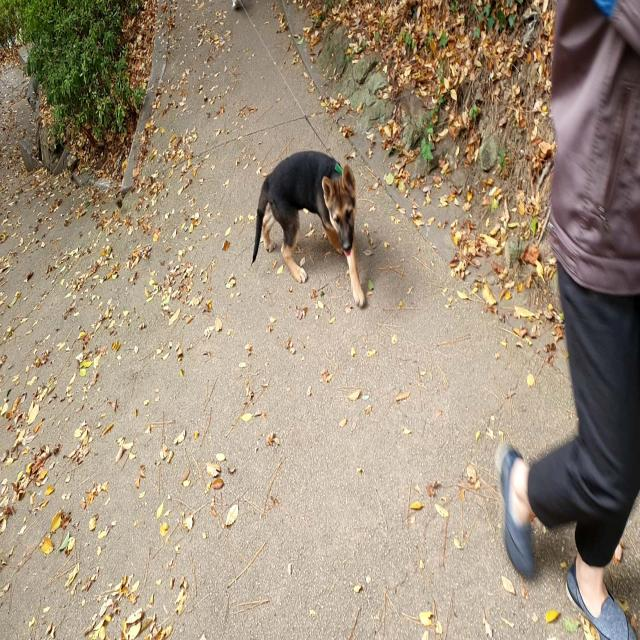Dog: (250, 148, 367, 308)
